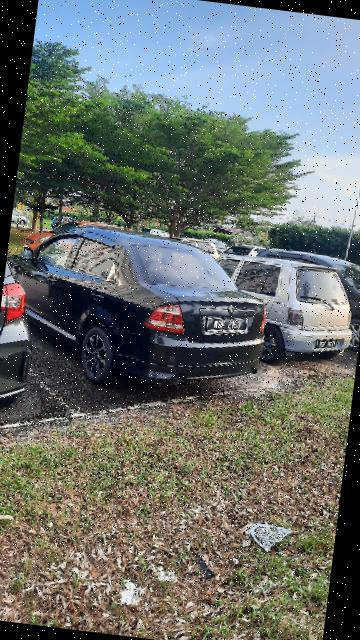License_Plate: (201, 309, 254, 341), (314, 337, 343, 354)
car: (1, 216, 278, 405), (198, 245, 360, 373)
